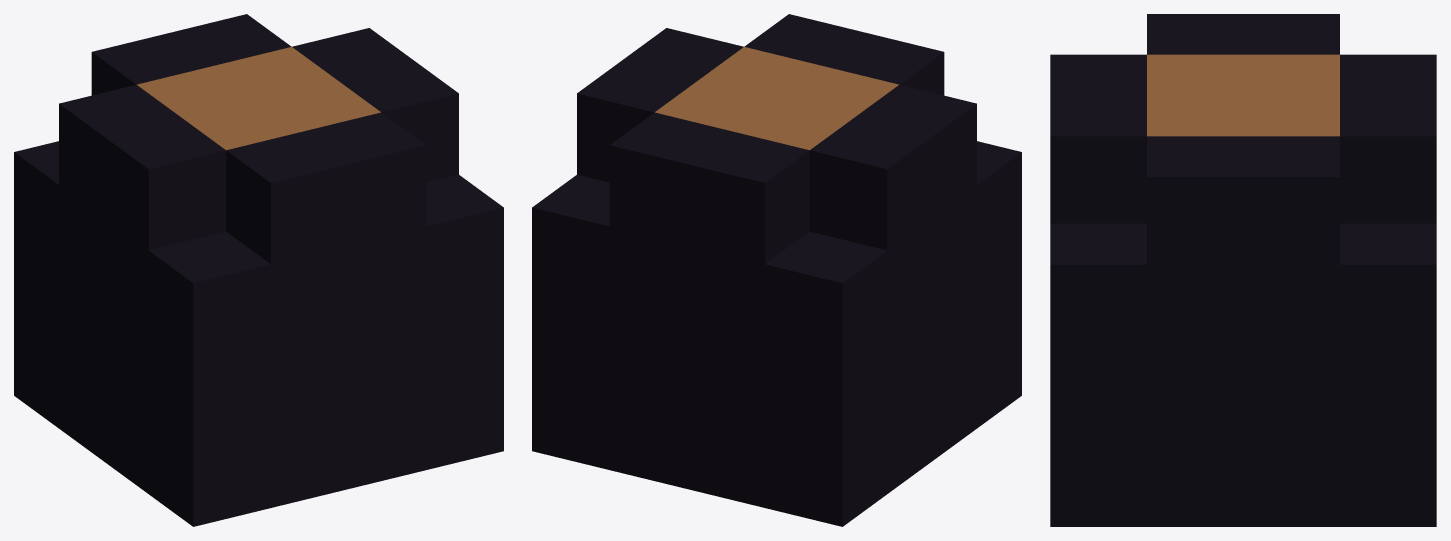
Rendered from BombWickFalce.obj.
3 renders of one model, left to right at view 1: azimuth 30°, elevation 25°; view 2: azimuth 150°, elevation 25°; view 3: azimuth 270°, elevation 25°, orthographic. The views are drawn at different scales.
Size of the model in its own units: 0.4 by 0.4 by 0.4.
1 material, 1 textured.
